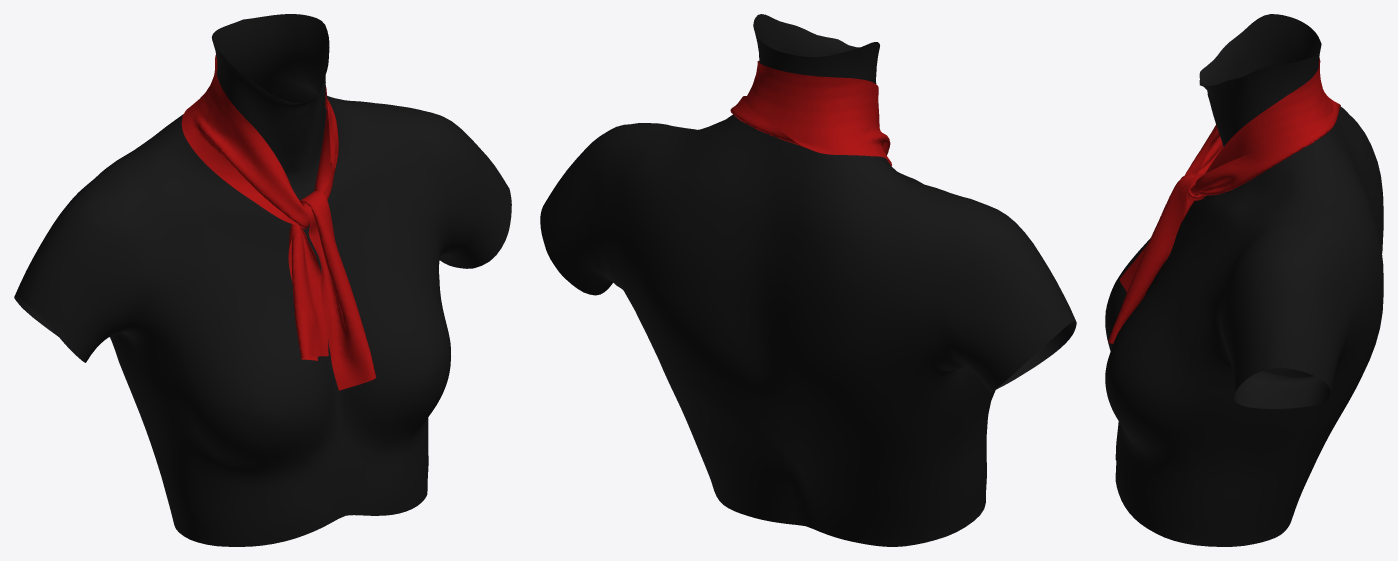
The model's file is pariwisata-NECKTIE.glb.
3 renders of one model, left to right at view 1: azimuth 30°, elevation 25°; view 2: azimuth 150°, elevation 25°; view 3: azimuth 270°, elevation 25°, orthographic. The views are drawn at different scales.
Parts seen in each view (by area): view 1: body.001, shawl1.001; view 2: body.001, shawl1.001; view 3: body.001, shawl1.001.
Boxes of the visible parts, x1,y1,x2,y2 form: body.001: (14, 14, 511, 546); shawl1.001: (181, 55, 376, 390); body.001: (540, 14, 1076, 546); shawl1.001: (730, 61, 891, 165); body.001: (1105, 14, 1383, 546); shawl1.001: (1108, 57, 1340, 343).
Size of the model in its own units: 0.4637 by 0.4213 by 0.2328.
